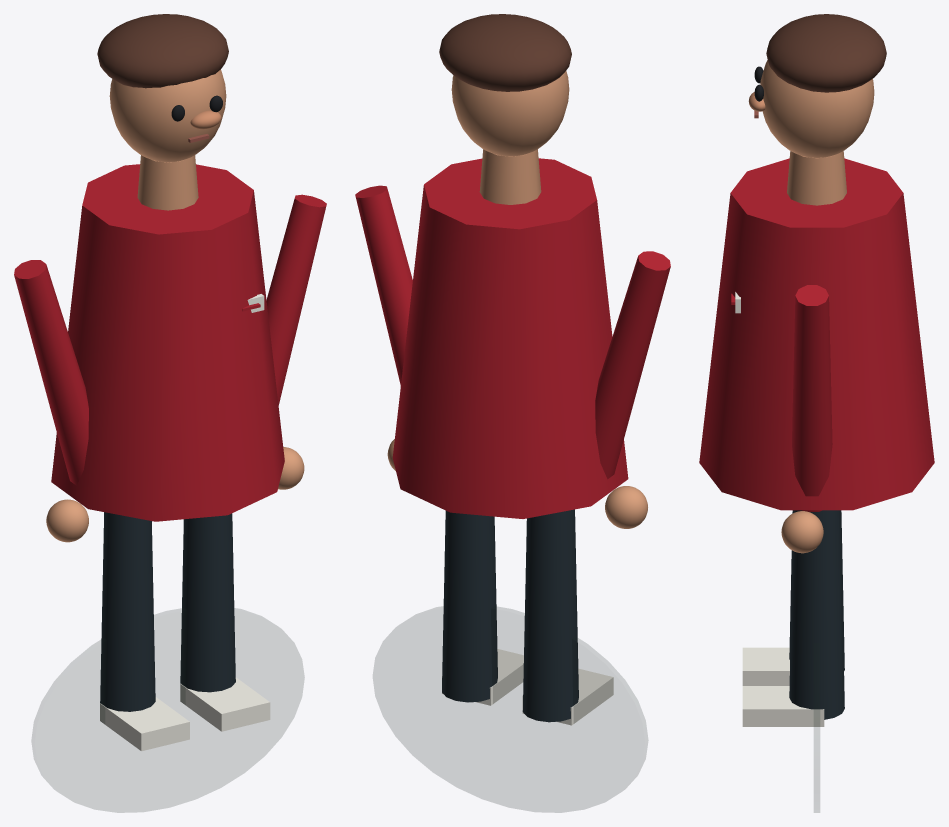
Rendered from staff_06_counter.glb.
3 views of the same model, side by side, from view 1: azimuth 30°, elevation 25°; view 2: azimuth 150°, elevation 25°; view 3: azimuth 270°, elevation 25° (orthographic). The views are drawn at different scales.
Parts seen in each view (by area): view 1: torso, contact_shadow, leg_-0.095, leg_0.095, hair_cap, arm_-0.255, head, arm_0.255, shoe_0.095, shoe_-0.095, neck, hand_-0.255 (+1 smaller); view 2: torso, contact_shadow, leg_-0.095, leg_0.095, hair_cap, arm_-0.255, head, arm_0.255, neck, shoe_-0.095, hand_-0.255, shoe_0.095; view 3: torso, leg_0.095, arm_0.255, hair_cap, head, neck, shoe_0.095, shoe_-0.095, hand_0.255, contact_shadow.
Part boxes in pixels (x1=…): torso: x1=51, y1=164, x2=284, y2=521; contact_shadow: x1=32, y1=608, x2=304, y2=812; leg_-0.095: x1=100, y1=512, x2=155, y2=711; leg_0.095: x1=180, y1=513, x2=235, y2=692; hair_cap: x1=97, y1=14, x2=228, y2=88; arm_-0.255: x1=14, y1=260, x2=88, y2=485; head: x1=109, y1=69, x2=226, y2=162; arm_0.255: x1=266, y1=194, x2=326, y2=405; shoe_0.095: x1=180, y1=677, x2=270, y2=731; shoe_-0.095: x1=100, y1=697, x2=189, y2=751; neck: x1=137, y1=155, x2=198, y2=210; hand_-0.255: x1=46, y1=499, x2=88, y2=542; torso: x1=392, y1=158, x2=628, y2=518; contact_shadow: x1=373, y1=606, x2=647, y2=812; leg_-0.095: x1=522, y1=509, x2=578, y2=722; leg_0.095: x1=442, y1=511, x2=497, y2=702; hair_cap: x1=439, y1=14, x2=571, y2=91; arm_-0.255: x1=595, y1=251, x2=670, y2=479; head: x1=451, y1=71, x2=569, y2=156; arm_0.255: x1=355, y1=185, x2=412, y2=385; neck: x1=479, y1=149, x2=541, y2=204; shoe_-0.095: x1=522, y1=668, x2=613, y2=725; hand_-0.255: x1=605, y1=486, x2=647, y2=528; shoe_0.095: x1=442, y1=649, x2=523, y2=705; torso: x1=699, y1=158, x2=934, y2=510; leg_0.095: x1=789, y1=510, x2=844, y2=719; arm_0.255: x1=792, y1=285, x2=832, y2=511; hair_cap: x1=766, y1=14, x2=886, y2=92; head: x1=760, y1=60, x2=874, y2=157; neck: x1=787, y1=151, x2=846, y2=205; shoe_0.095: x1=742, y1=686, x2=824, y2=726; shoe_-0.095: x1=742, y1=647, x2=789, y2=685; hand_0.255: x1=781, y1=511, x2=823, y2=553; contact_shadow: x1=814, y1=643, x2=819, y2=812.
Bounding box in the file's own units: 0.7506 × 1.81 × 0.5047.
